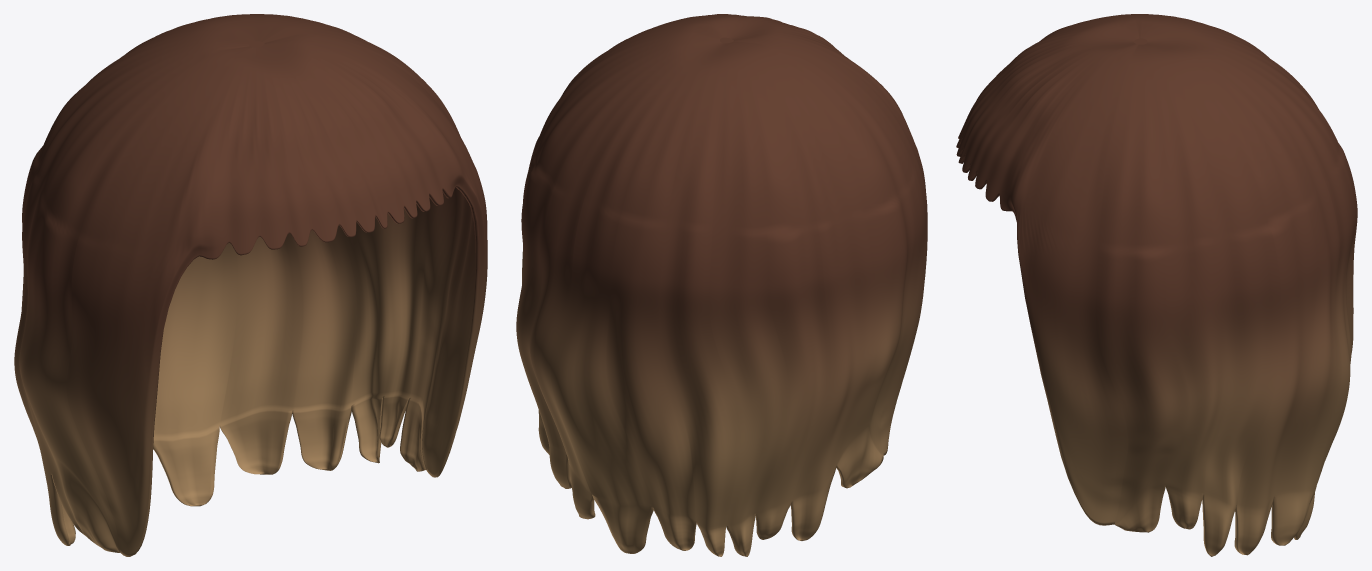
The model's file is long-cowboy-ombre.glb.
3 renders of one model, left to right at view 1: azimuth 30°, elevation 25°; view 2: azimuth 150°, elevation 25°; view 3: azimuth 270°, elevation 25°, orthographic. The views are drawn at different scales.
Visible parts, largest first — view 1: Hair / rounded long fringe; view 2: Hair / rounded long fringe; view 3: Hair / rounded long fringe.
Part boxes in pixels (x1,y1,x2,y2): Hair / rounded long fringe: [14, 14, 487, 556]; Hair / rounded long fringe: [516, 14, 927, 556]; Hair / rounded long fringe: [956, 14, 1357, 556].
Bounding box in the file's own units: 0.8534 × 1.05 × 0.7801.
